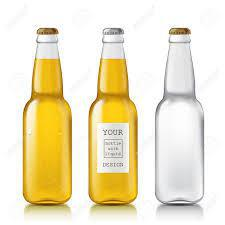beer: (23, 28, 138, 205)
